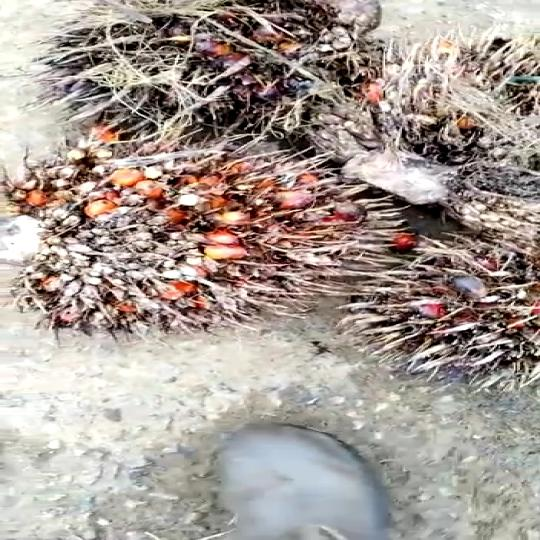terlalu masak: (3, 128, 399, 336), (9, 0, 423, 128)
